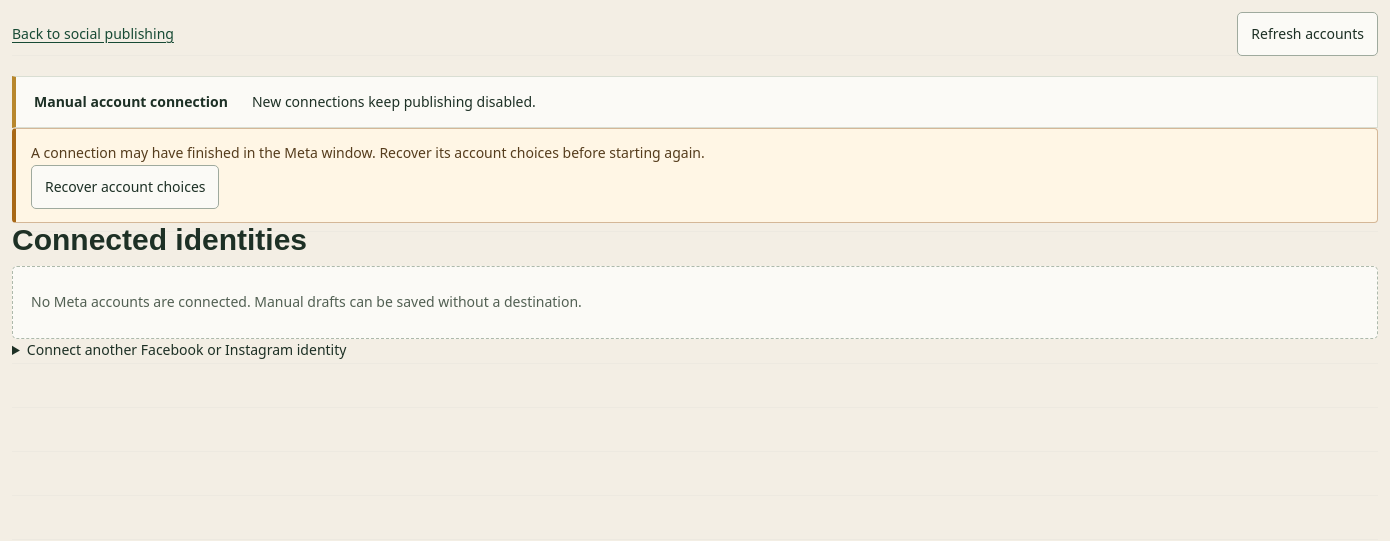
Test: explicit recovery recovers already exchanged choices without code replay
Click the button "Recover account choices": (125, 187) 31,165 -> 220,209
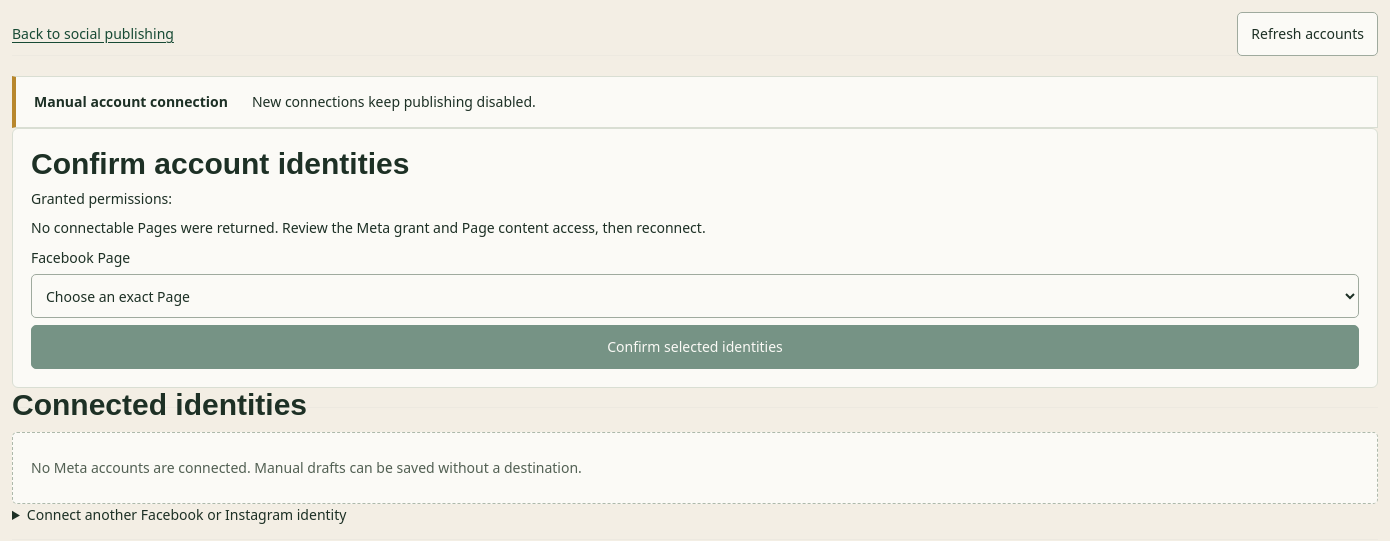
Expected: the heading "Confirm account identities" is shown, 31,147 -> 409,180
